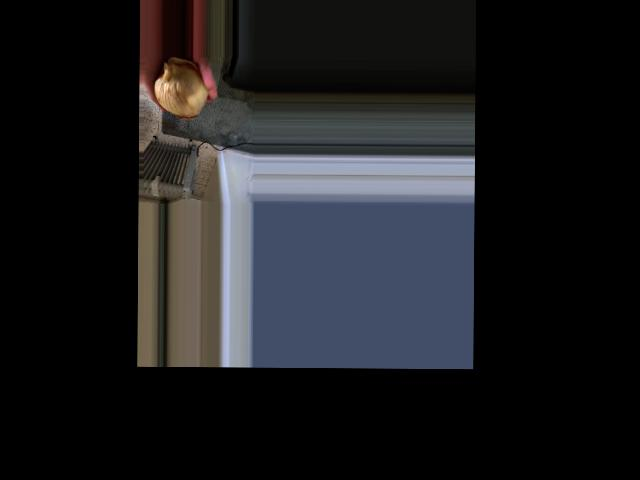onion: (150, 60, 207, 120)
